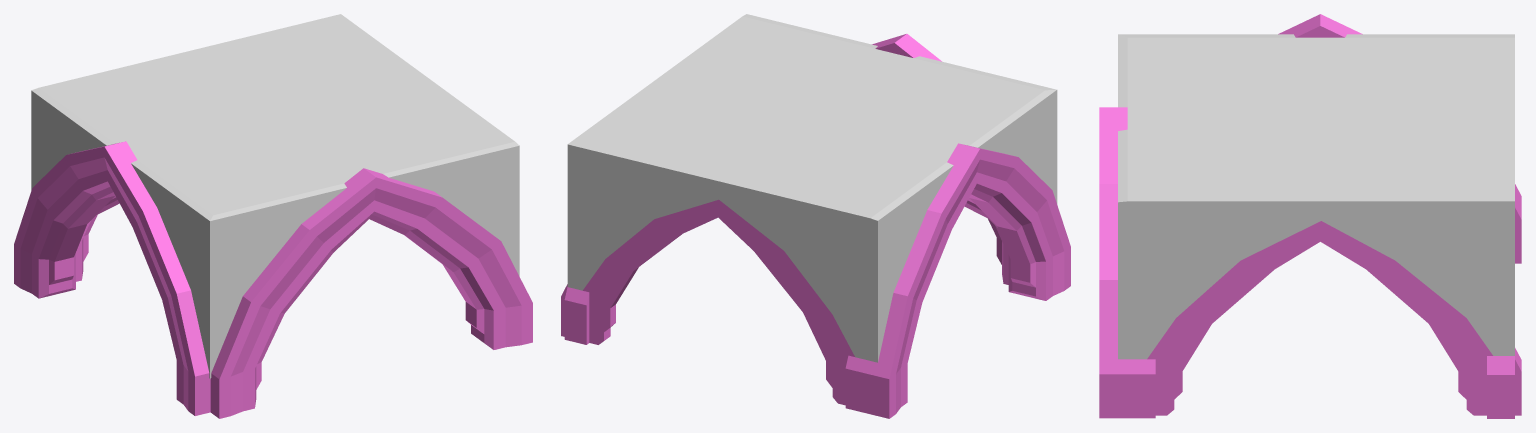
Rendered from SM_Arcade_Corner_Fantasy.fbx.
3 renders of one model, left to right at view 1: azimuth 30°, elevation 25°; view 2: azimuth 150°, elevation 25°; view 3: azimuth 270°, elevation 25°, orthographic. The views are drawn at different scales.
Visible parts, largest first — view 1: SM_Arcade_Corner_Fantasy; view 2: SM_Arcade_Corner_Fantasy; view 3: SM_Arcade_Corner_Fantasy.
Part boxes in pixels (left/top/right/bottom): SM_Arcade_Corner_Fantasy: left=14, top=14, right=532, bottom=418; SM_Arcade_Corner_Fantasy: left=561, top=14, right=1070, bottom=418; SM_Arcade_Corner_Fantasy: left=1099, top=14, right=1521, bottom=418.
Size of the model in its own units: 4.37 by 2.57 by 4.36.
